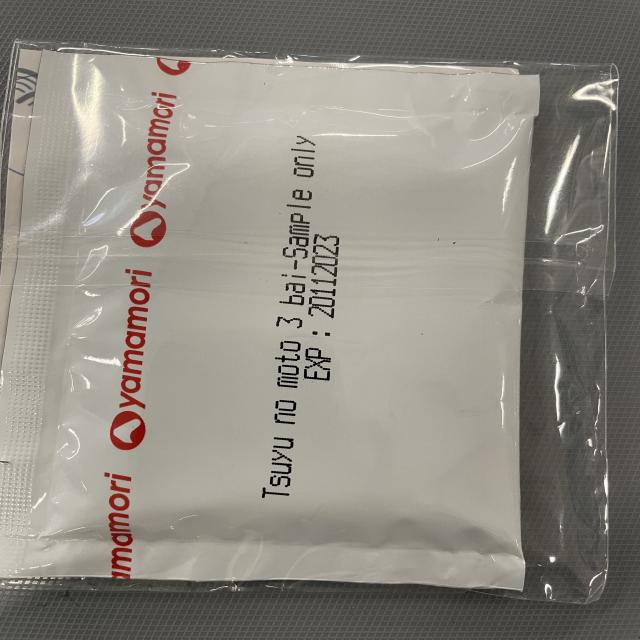object_name: (24, 51, 608, 584)
